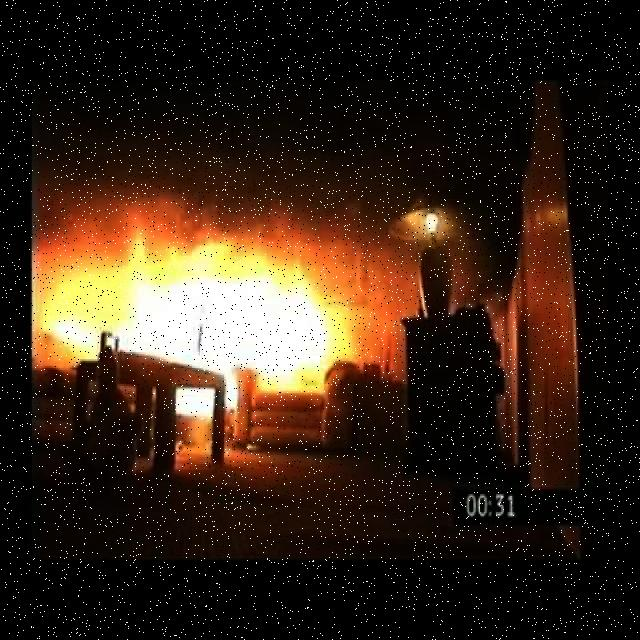fire: (32, 210, 370, 413)
